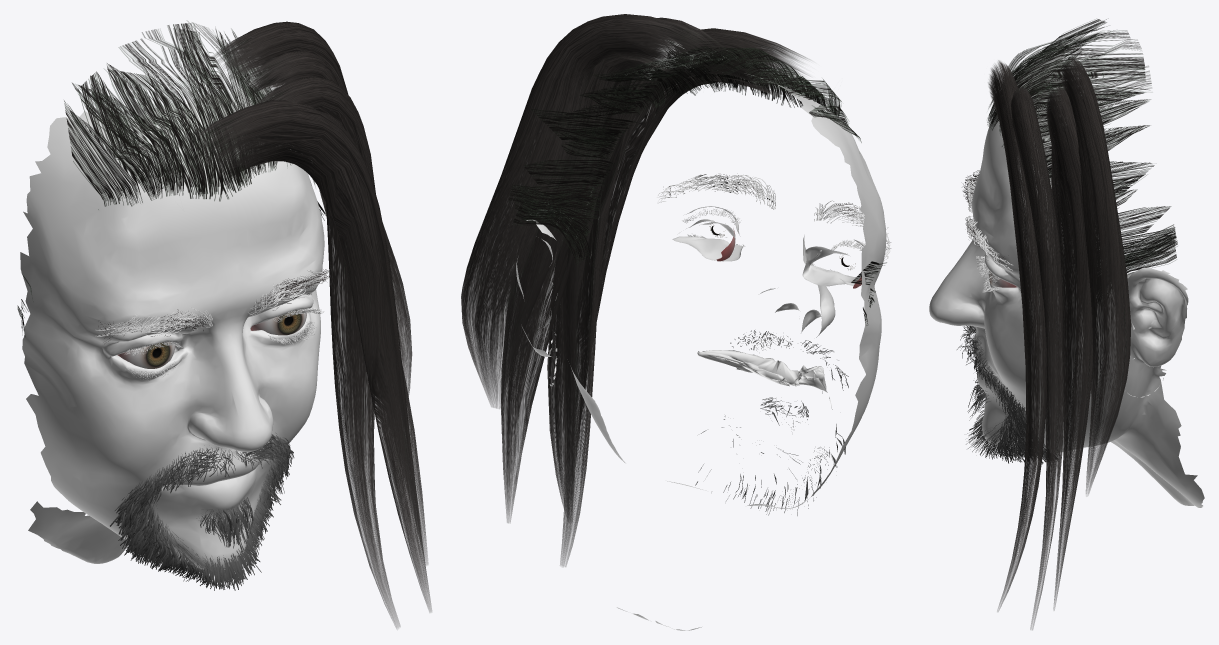
File: HeadDefDISPMOB.glb
The picture shows the model from 3 angles, left to right: view 1: azimuth 30°, elevation 25°; view 2: azimuth 150°, elevation 25°; view 3: azimuth 270°, elevation 25°; orthographic projection. The views are drawn at different scales.
Visible parts, largest first — view 1: Head2.001, NurbsPath, NurbsPath.001, Bebar, Broaux, Sphere1.002, Sphere1.003; view 2: NurbsPath, NurbsPath.001, Head2.001, Broaux, Bebar; view 3: NurbsPath, Head2.001, NurbsPath.001, Bebar, Broaux.
Part boxes in pixels (<box>): Head2.001: <box>20,88,324,569</box>; NurbsPath: <box>187,21,431,628</box>; NurbsPath.001: <box>17,21,326,336</box>; Bebar: <box>110,432,294,590</box>; Broaux: <box>95,269,329,341</box>; Sphere1.002: <box>117,342,175,368</box>; Sphere1.003: <box>250,310,306,335</box>; NurbsPath: <box>461,14,809,566</box>; NurbsPath.001: <box>508,46,886,325</box>; Head2.001: <box>498,74,886,630</box>; Broaux: <box>657,174,890,261</box>; Bebar: <box>695,330,848,515</box>; NurbsPath: <box>988,56,1131,629</box>; Head2.001: <box>929,45,1204,507</box>; NurbsPath.001: <box>987,19,1177,302</box>; Bebar: <box>957,325,1057,464</box>; Broaux: <box>963,170,1012,270</box>.
Size of the model in its own units: 3.97 by 5.58 by 2.7.
3 materials, 2 textured.
